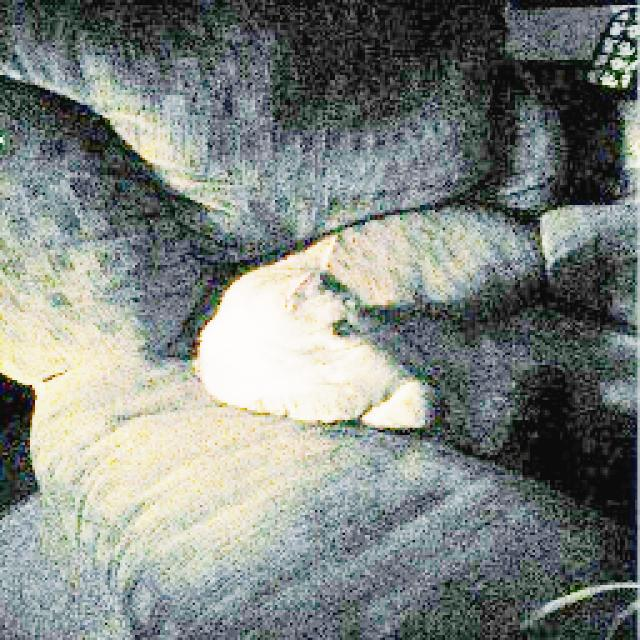cat: (170, 158, 580, 466)
